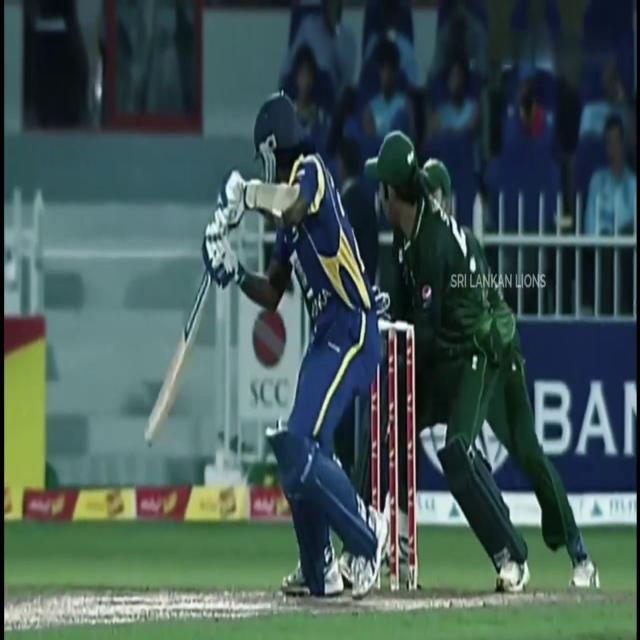Batsman: (202, 74, 404, 597)
